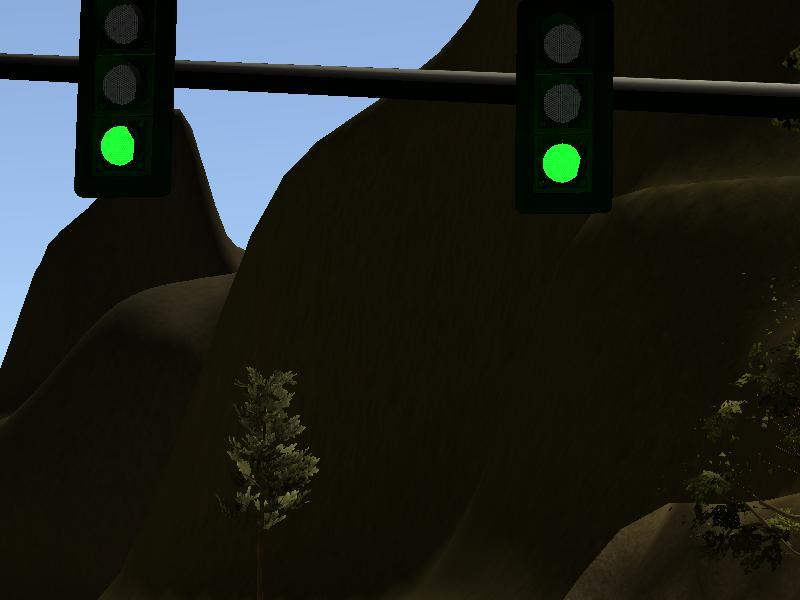Green: (513, 1, 611, 213), (78, 1, 173, 200)
